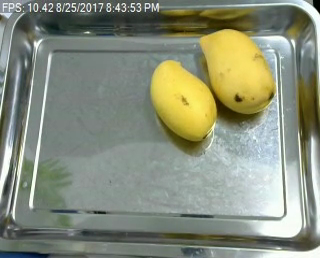Mango: (198, 26, 280, 114), (148, 54, 217, 142)
